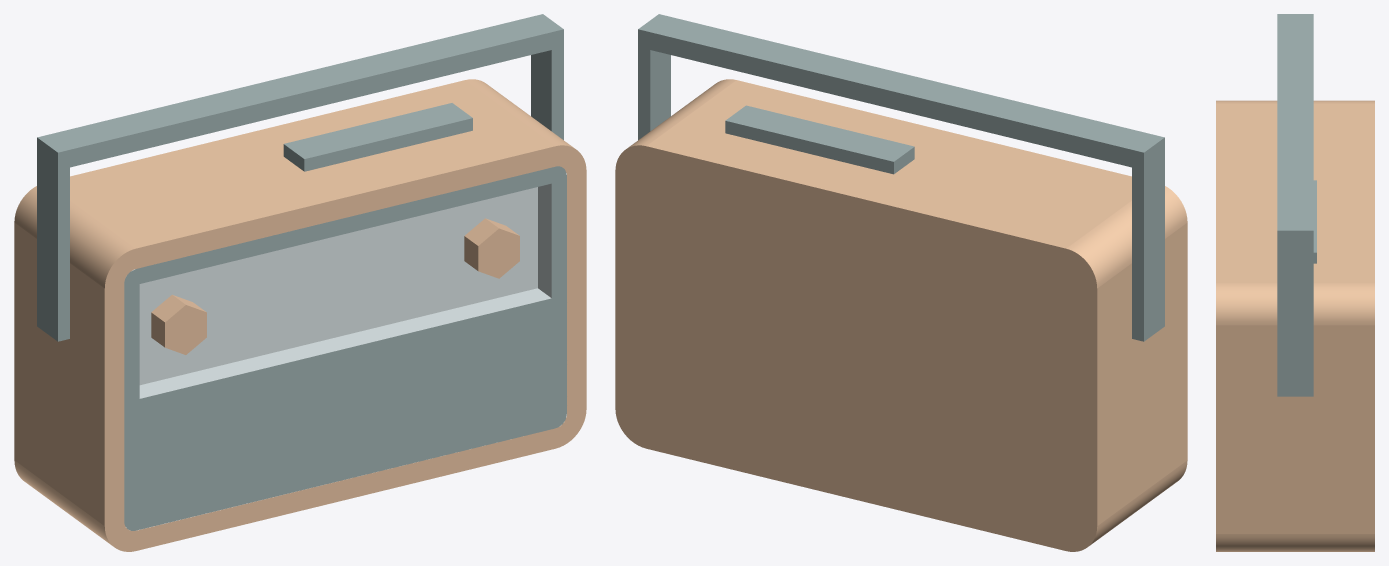
File: k_radio.glb
3 renders of one model, left to right at view 1: azimuth 30°, elevation 25°; view 2: azimuth 150°, elevation 25°; view 3: azimuth 270°, elevation 25°, orthographic. The views are drawn at different scales.
Parts seen in each view (by area): view 1: radio(Clone); view 2: radio(Clone); view 3: radio(Clone).
Boxes of the visible parts, <box> form: radio(Clone): <box>14,14,586,551</box>; radio(Clone): <box>615,14,1187,551</box>; radio(Clone): <box>1216,14,1374,551</box>.
Bounding box in the file's own units: 0.574 × 0.4158 × 0.1776.
